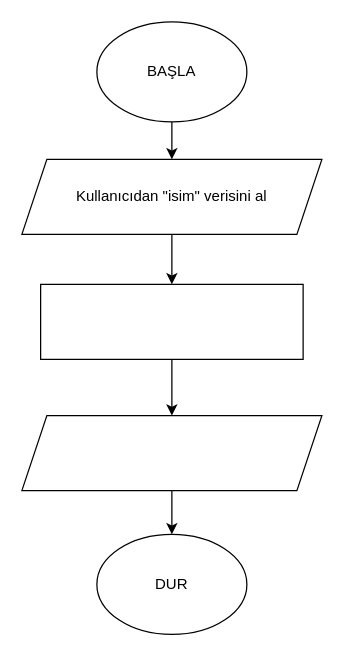
This 344x656 diagram has some shape labels left out. The shapes that lost their labels are listed below. From the top down, each one's centre as x and y in pixels, then its label:
[171,321]: mesaj ="Hoşgeldin Sayın " + isim
[171,452]: Ekrana "mesaj" değişkenini yazdır
